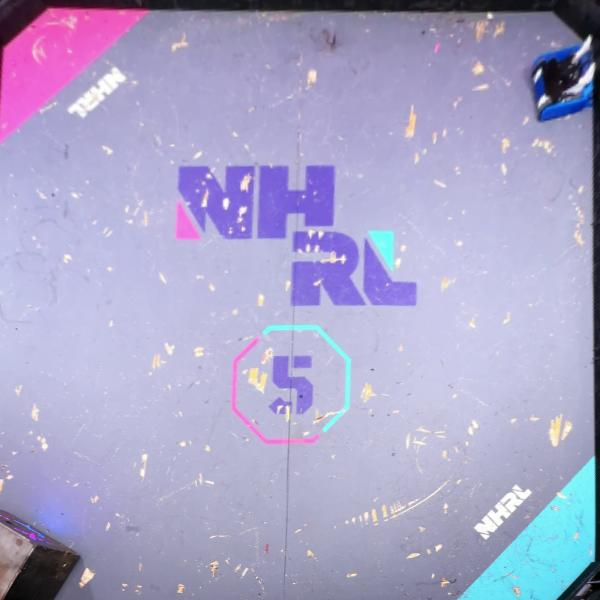housebot: (2, 511, 84, 600)
robot: (529, 35, 600, 125)
